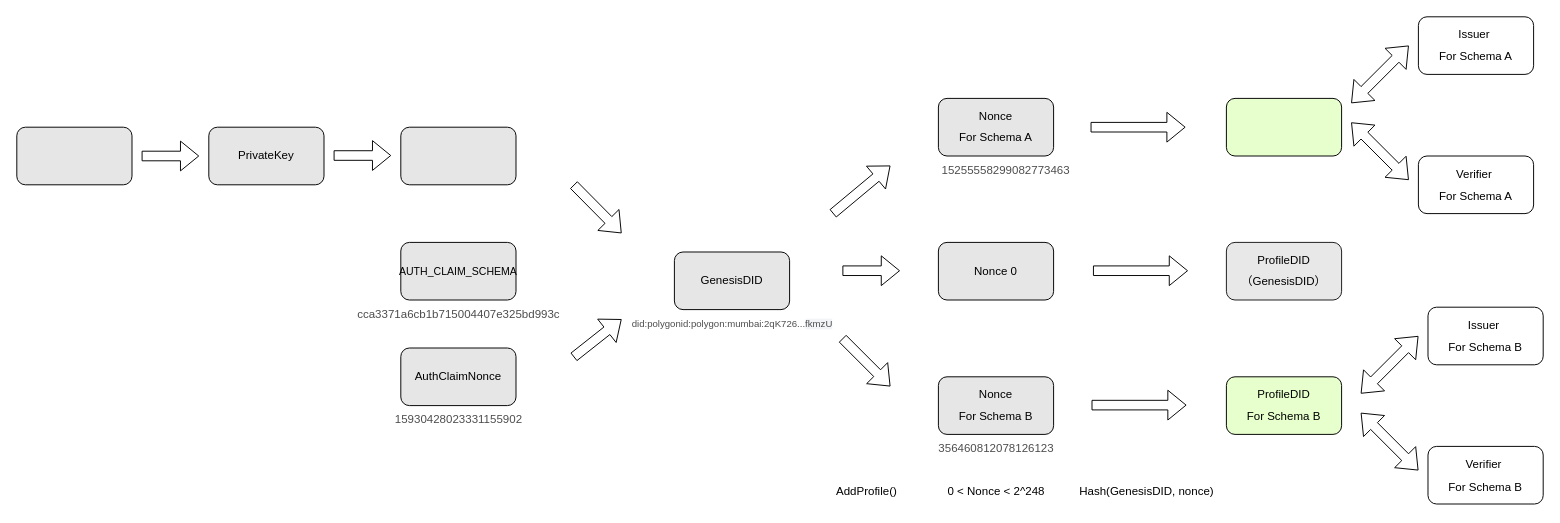
The diagram is 1560 pixels wide and 523 high, and some of its shapes have lost their labels. The centre of each missing label's shape, as x and y in pixels:
"ProfileDID For Schema A" belongs at pixel 1283 126.
"PublicKey" belongs at pixel 458 155.
"Secret" belongs at pixel 74 155.
